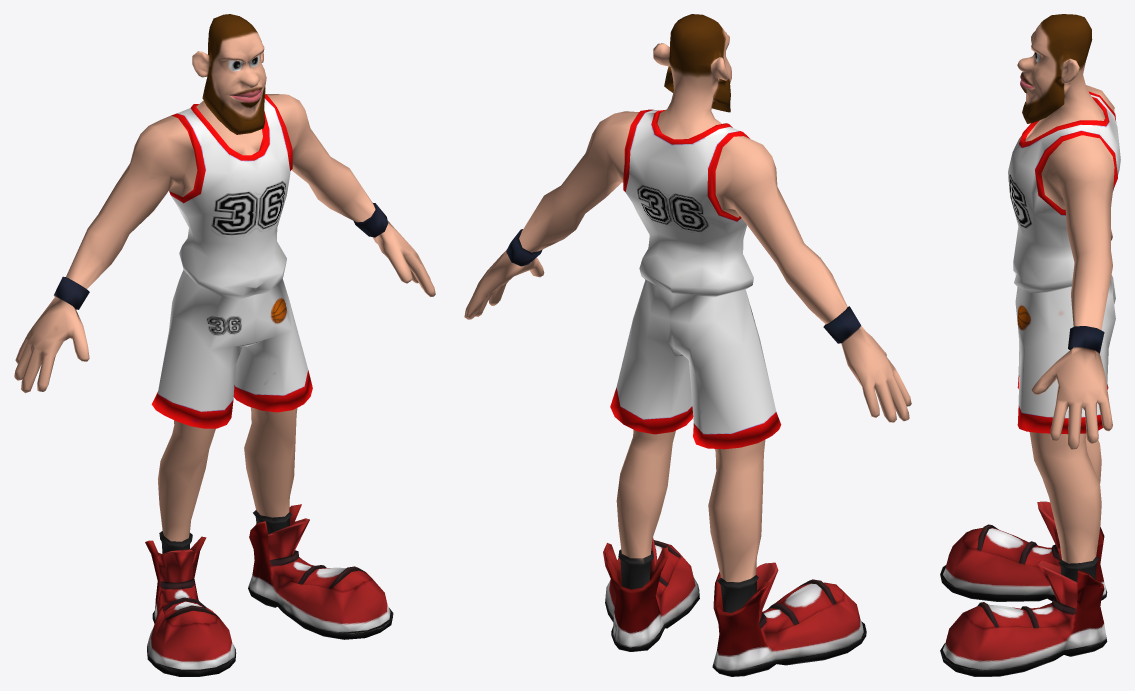
File: Player 36 red.fbx
3 views of the same model, side by side, from view 1: azimuth 30°, elevation 25°; view 2: azimuth 150°, elevation 25°; view 3: azimuth 270°, elevation 25° (orthographic). The views are drawn at different scales.
Parts seen in each view (by area): view 1: Labrone 036 blue; view 2: Labrone 036 blue; view 3: Labrone 036 blue.
Part boxes in pixels (box(x1,y1,x2,y2)): Labrone 036 blue: box(14, 14, 435, 676); Labrone 036 blue: box(464, 14, 911, 676); Labrone 036 blue: box(940, 14, 1120, 676).
Bounding box in the file's own units: 136 × 188 × 50.96.
1 material, 1 textured.
